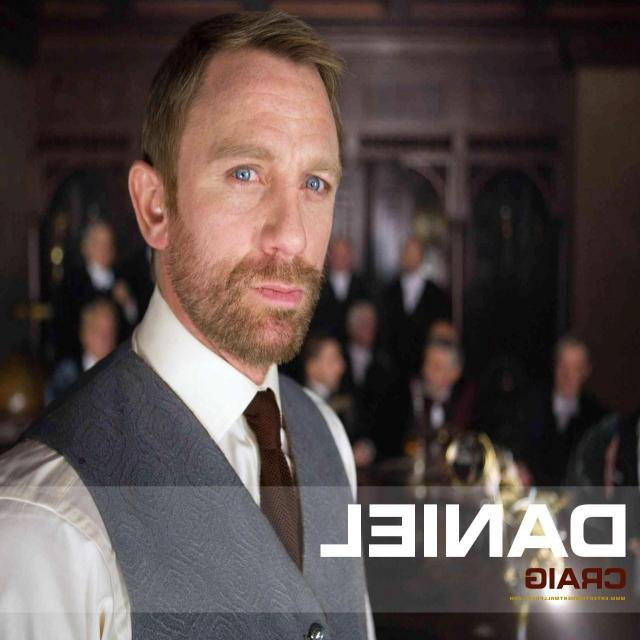no-earmuff: (122, 144, 188, 268)
